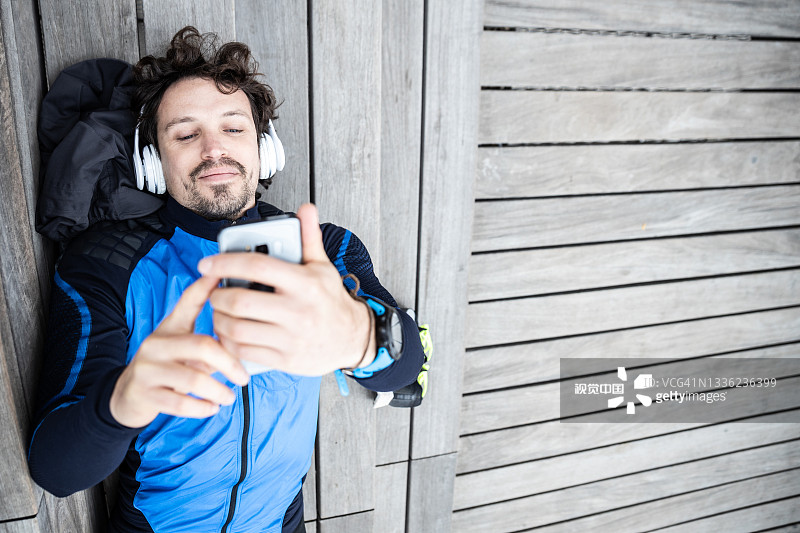reading: (98, 196, 390, 435)
